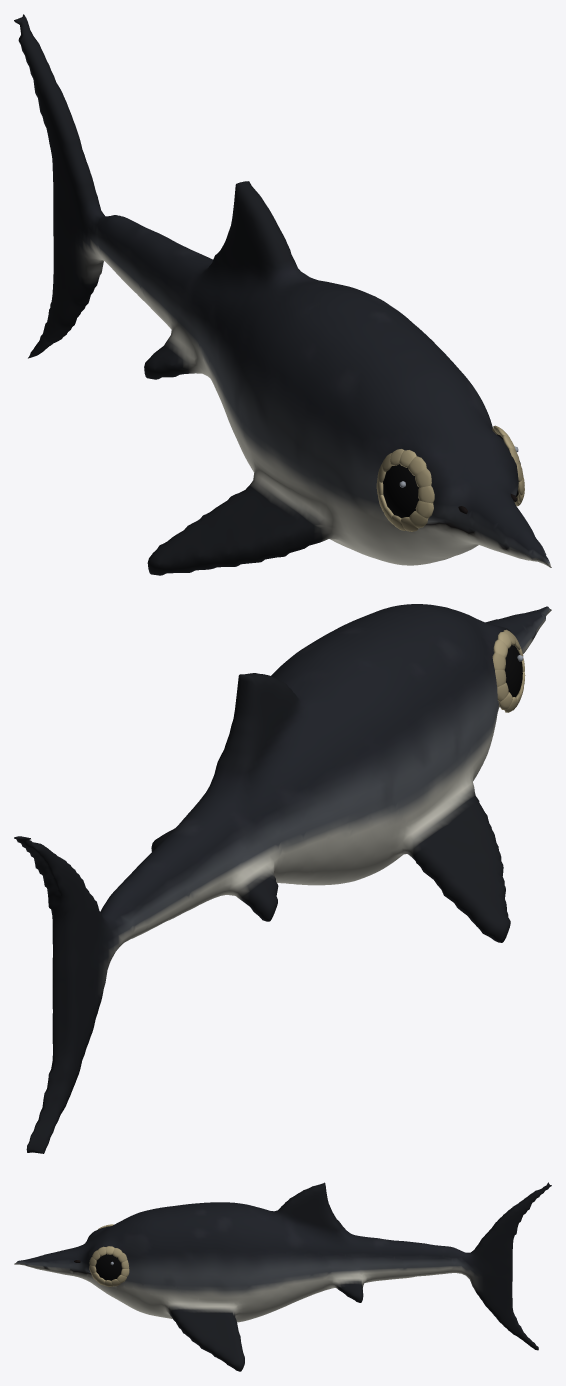
Rendered from Ophthalmosaurus.fbx.
3 renders of one model, top to bottom at view 1: azimuth 30°, elevation 25°; view 2: azimuth 150°, elevation 25°; view 3: azimuth 270°, elevation 25°, orthographic. The views are drawn at different scales.
Visible parts, largest first — view 1: Ophthalmosaurus; view 2: Ophthalmosaurus; view 3: Ophthalmosaurus.
Boxes of the visible parts, box(x1,y1,x2,y2) form: Ophthalmosaurus: box(14, 14, 551, 575); Ophthalmosaurus: box(14, 604, 551, 1153); Ophthalmosaurus: box(14, 1182, 551, 1371).
Bounding box in the file's own units: 0.6977 × 0.6136 × 1.81.
